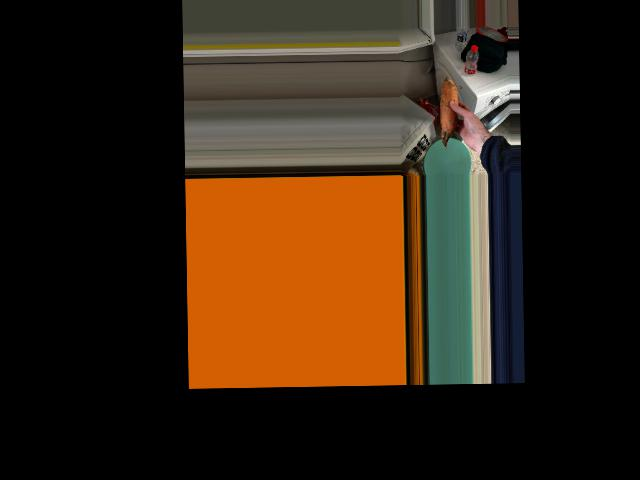sweet_potato: (438, 82, 463, 148)
